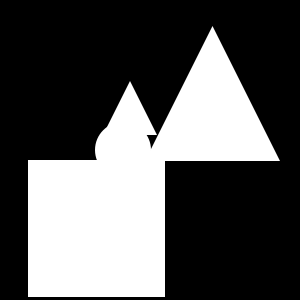circle: (28, 160, 165, 297)
rectangle: (95, 122, 151, 178)
triangle: (145, 26, 280, 161), (103, 81, 157, 135), (178, 73, 212, 107)
